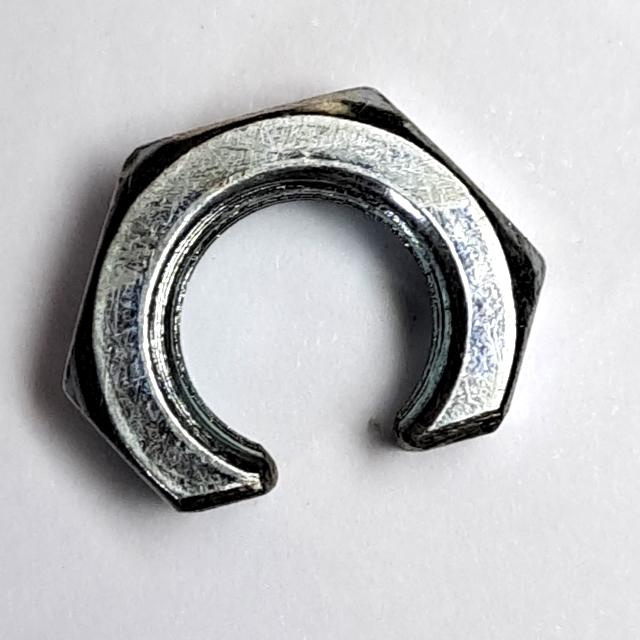Fracture: (53, 74, 553, 536)
